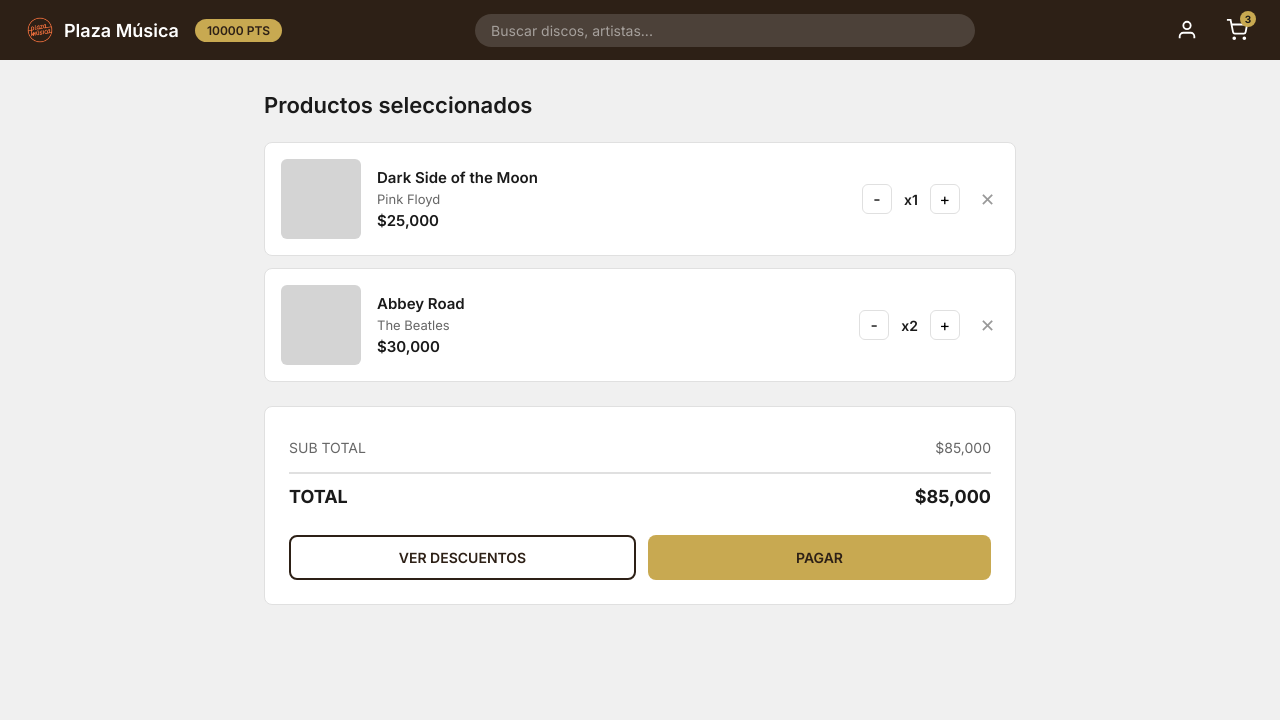
Test: Carrito › descuentos › abre modal de descuentos
Expected: the heading "Dark Side of the Moon" is shown, [377,168,538,187]
Click the button "VER DESCUENTOS" at (462, 558), box [289,535,636,580]
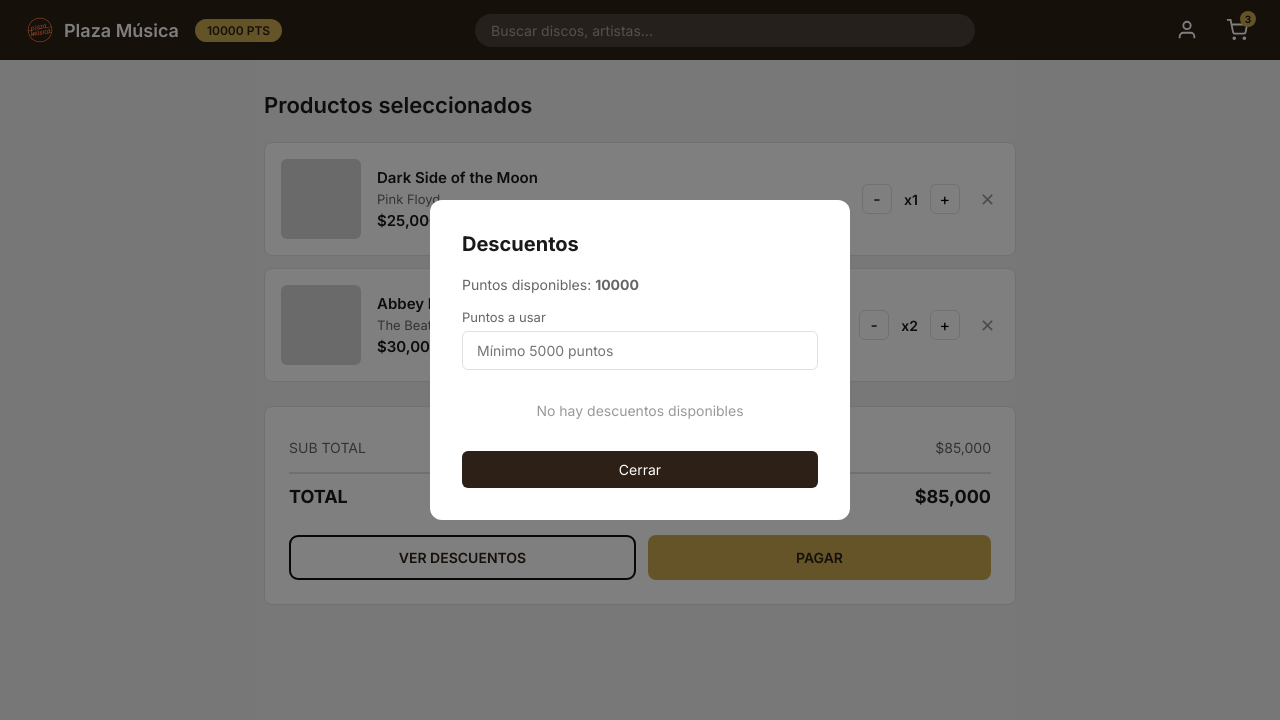
Result: the heading "Descuentos" is shown at [462,232,579,256]
